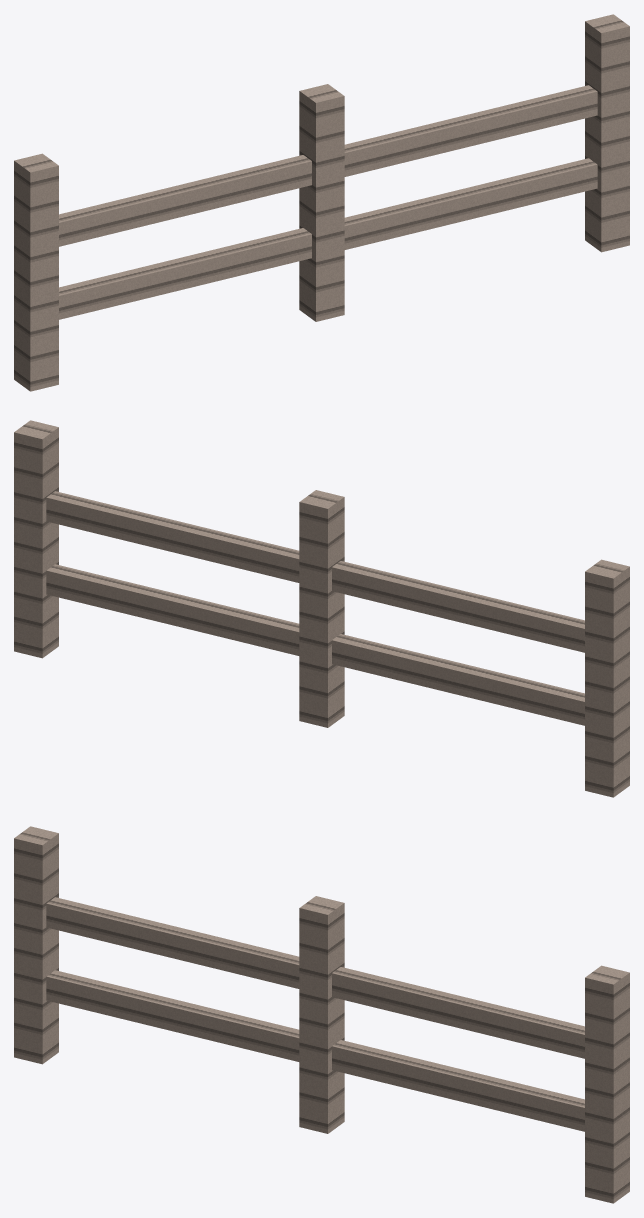
File: fence_split_rail.glb
3 views of the same model, one above another, from view 1: azimuth 30°, elevation 25°; view 2: azimuth 150°, elevation 25°; view 3: azimuth 330°, elevation 25° (orthographic).
Parts seen in each view (by area): view 1: fence_split_rail-col; view 2: fence_split_rail-col; view 3: fence_split_rail-col.
Boxes of the visible parts, x1,y1,x2,y2 form: fence_split_rail-col: [14, 14, 629, 391]; fence_split_rail-col: [14, 420, 629, 797]; fence_split_rail-col: [14, 826, 629, 1203].
Bounding box in the file's own units: 3.15 × 1.1 × 0.15.
Materials: 1 (1 with a texture image).
